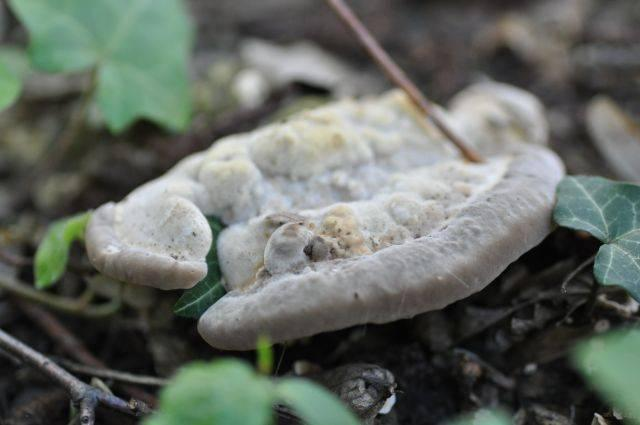Non-edible Mushroom: (83, 61, 566, 340)
